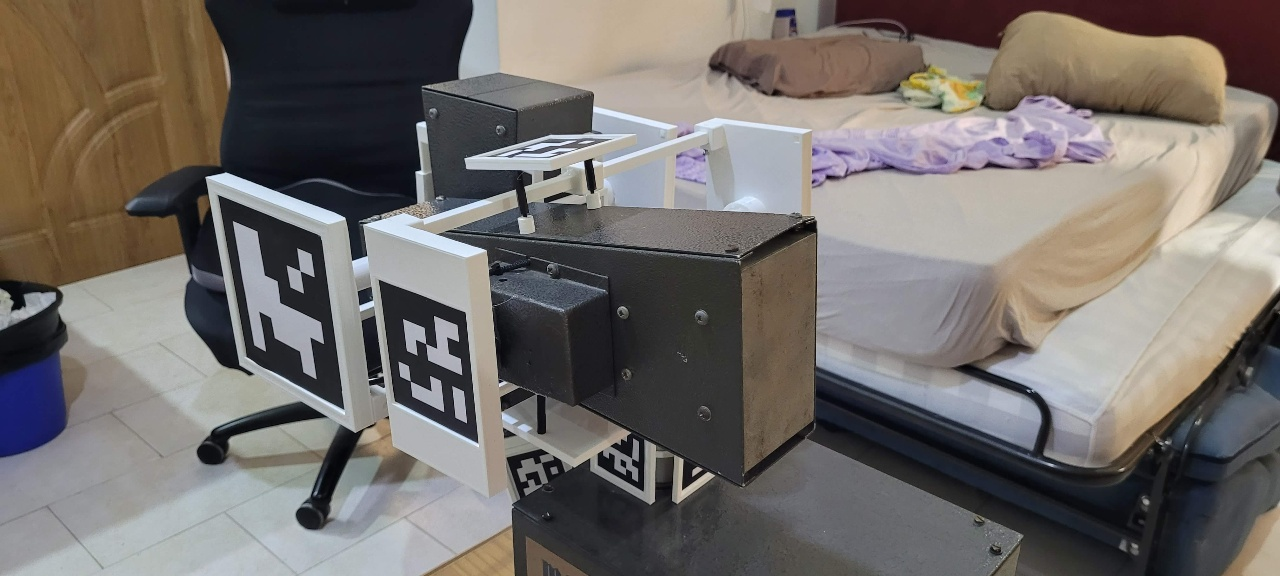Robot: (203, 74, 819, 506)
